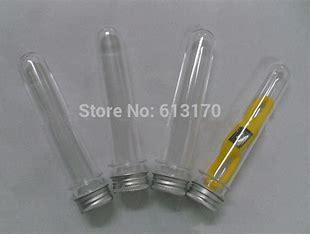Syringe: (91, 16, 150, 196), (154, 25, 216, 188)
